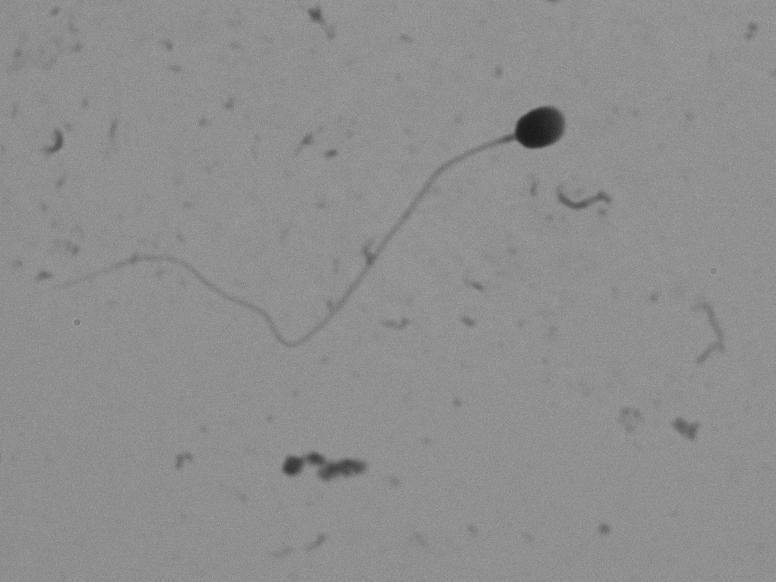Normal: (41, 58, 601, 400)
